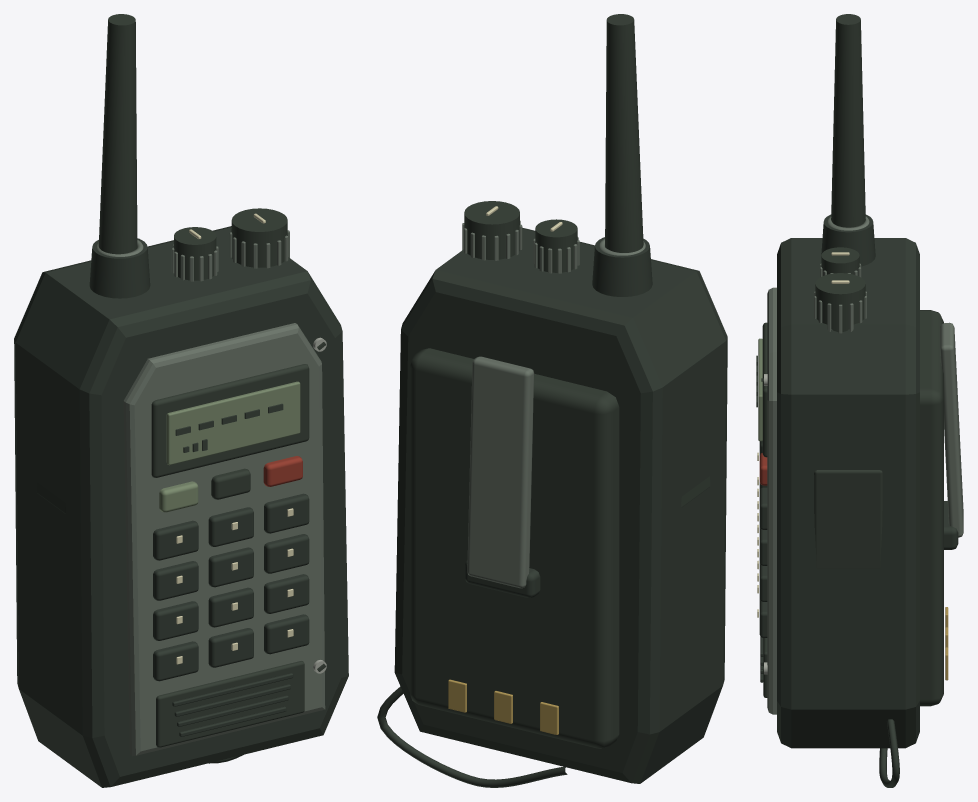
File: radio.glb
3 views of the same model, side by side, from view 1: azimuth 30°, elevation 25°; view 2: azimuth 150°, elevation 25°; view 3: azimuth 270°, elevation 25° (orthographic). The views are drawn at different scales.
Parts seen in each view (by area): view 1: radio; view 2: radio; view 3: radio.
Boxes of the visible parts, x1,y1,x2,y2 form: radio: (14,14,348,787); radio: (377,14,727,787); radio: (756,14,963,787).
Size of the model in its own units: 0.9467 by 2.44 by 0.6514.
